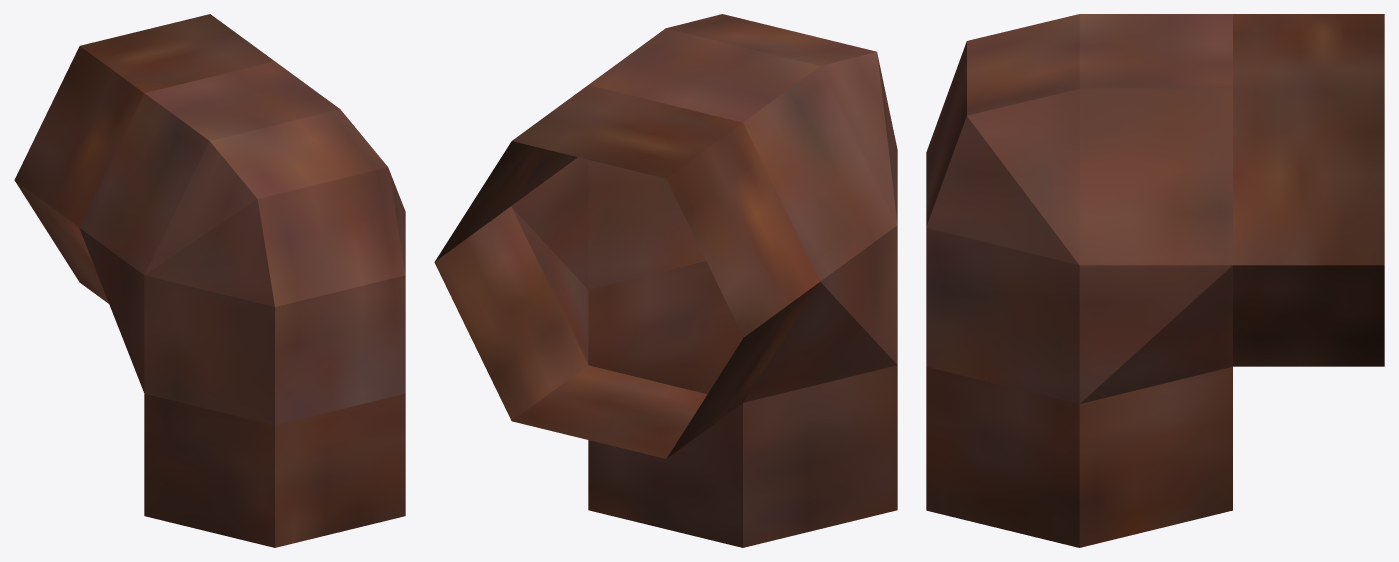
File: MESH_PIPE_MEDIUM_2_R.fbx
The picture shows the model from 3 angles, left to right: view 1: azimuth 30°, elevation 25°; view 2: azimuth 150°, elevation 25°; view 3: azimuth 270°, elevation 25°; orthographic projection. The views are drawn at different scales.
Visible parts, largest first — view 1: MESH_PIPE_MEDIUM_2_R; view 2: MESH_PIPE_MEDIUM_2_R; view 3: MESH_PIPE_MEDIUM_2_R.
Boxes of the visible parts, x1=… form: MESH_PIPE_MEDIUM_2_R: x1=14, y1=14, x2=405, y2=547; MESH_PIPE_MEDIUM_2_R: x1=434, y1=14, x2=897, y2=547; MESH_PIPE_MEDIUM_2_R: x1=926, y1=14, x2=1384, y2=547.
Size of the model in its own units: 0.2541 by 0.3339 by 0.3291.
